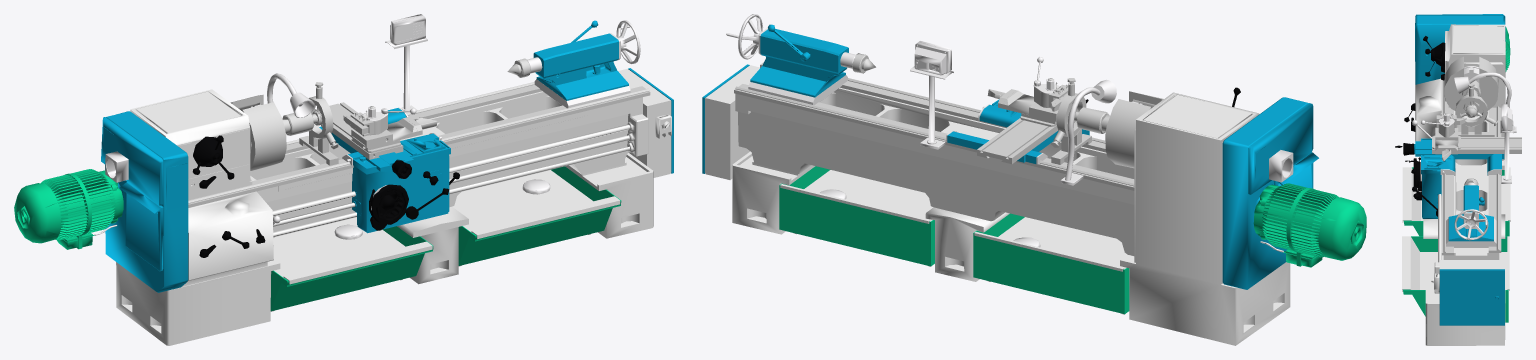
The model's file is lathe.glb.
3 renders of one model, left to right at view 1: azimuth 30°, elevation 25°; view 2: azimuth 150°, elevation 25°; view 3: azimuth 270°, elevation 25°, orthographic. The views are drawn at different scales.
Visible parts, largest first — view 1: .1_White_0, Body1__0; view 2: .1_White_0, Body1__0; view 3: .1_White_0, Body1__0.
Part boxes in pixels (x1=…): .1_White_0: x1=14, y1=20, x2=673, y2=345; Body1__0: x1=94, y1=14, x2=640, y2=311; .1_White_0: x1=702, y1=24, x2=1366, y2=345; Body1__0: x1=726, y1=14, x2=1293, y2=314; .1_White_0: x1=1395, y1=14, x2=1521, y2=345; Body1__0: x1=1412, y1=66, x2=1516, y2=247.
Bounding box in the file's own units: 4.93 × 1.66 × 1.16.
Materials: 2 (2 with a texture image).
